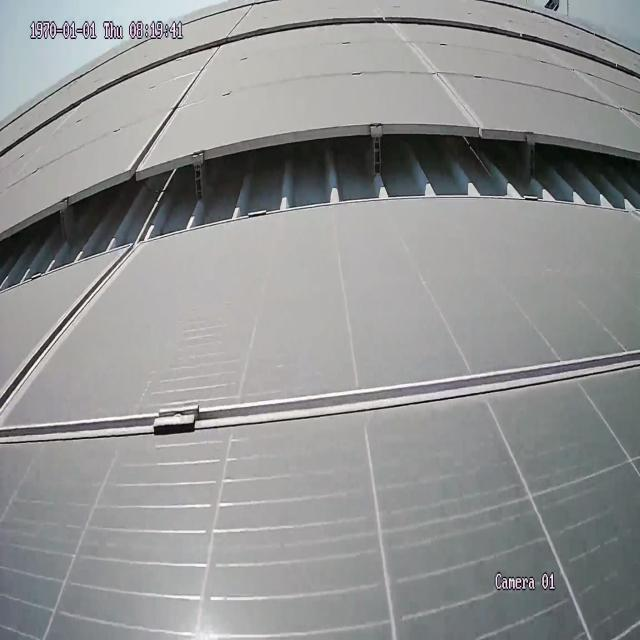interior panel: (3, 256, 640, 450), (130, 54, 215, 163), (392, 30, 486, 118)
outher panel: (0, 126, 640, 298)
